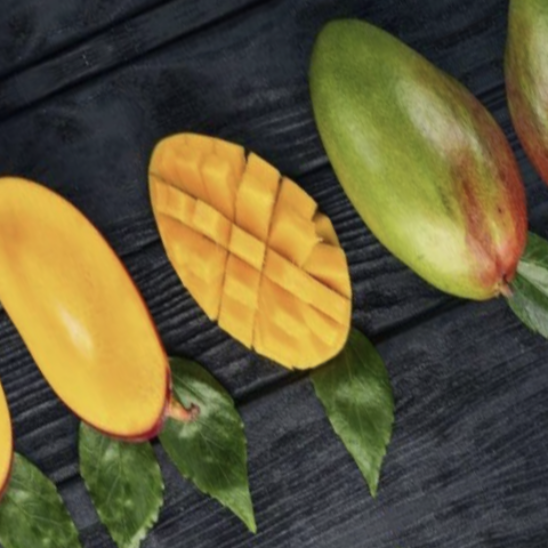mango: (99, 43, 393, 408), (262, 0, 548, 356), (0, 128, 221, 494)
